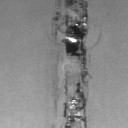slag inclusion: (50, 0, 102, 128), (53, 50, 61, 118)
